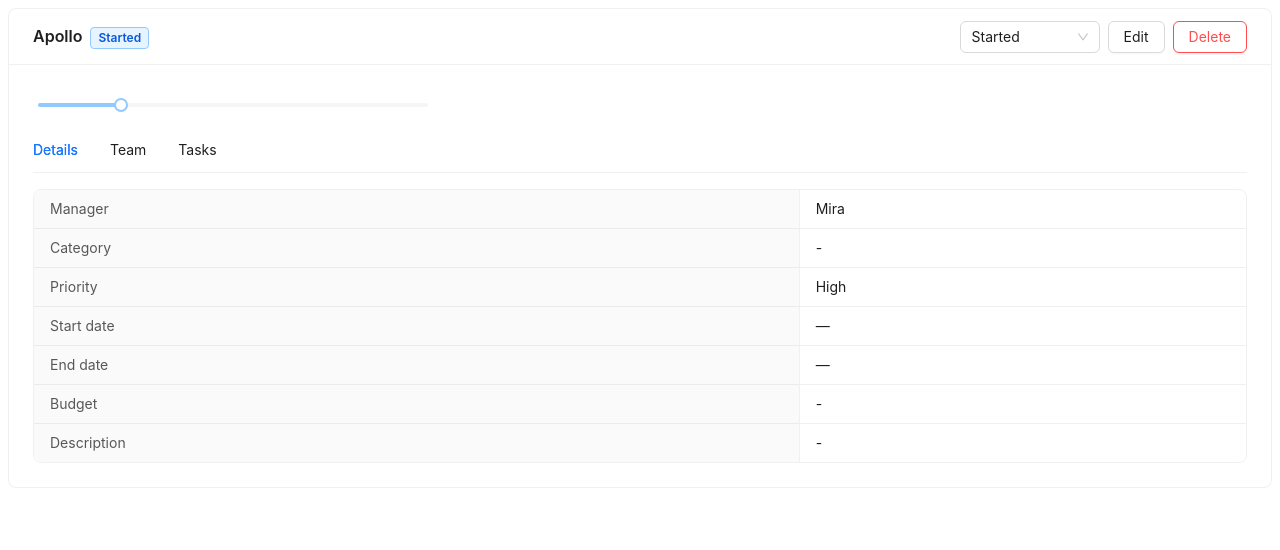
it: ProjectPage (W-48.1 §7) › delete 409 shows the server message
The width and height of the screenshot is (1280, 550).
Click the button "Delete". click: (1210, 36)
box: 1173,20 -> 1247,52
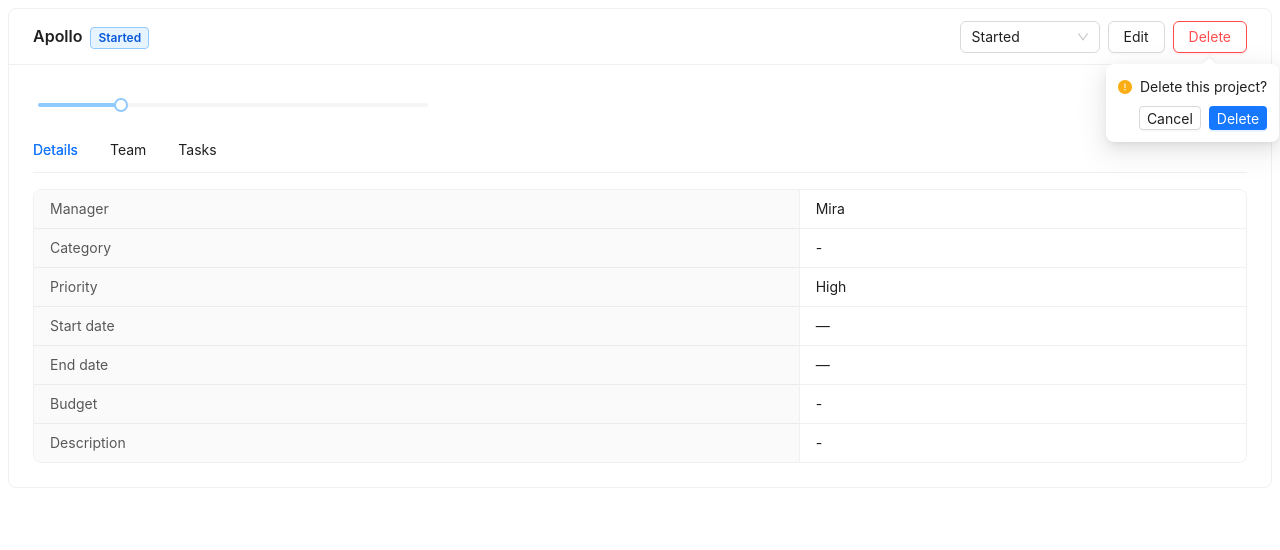
Click the button "Delete" below "Delete this project?". click: (1238, 118)
box: 1209,106 -> 1267,130
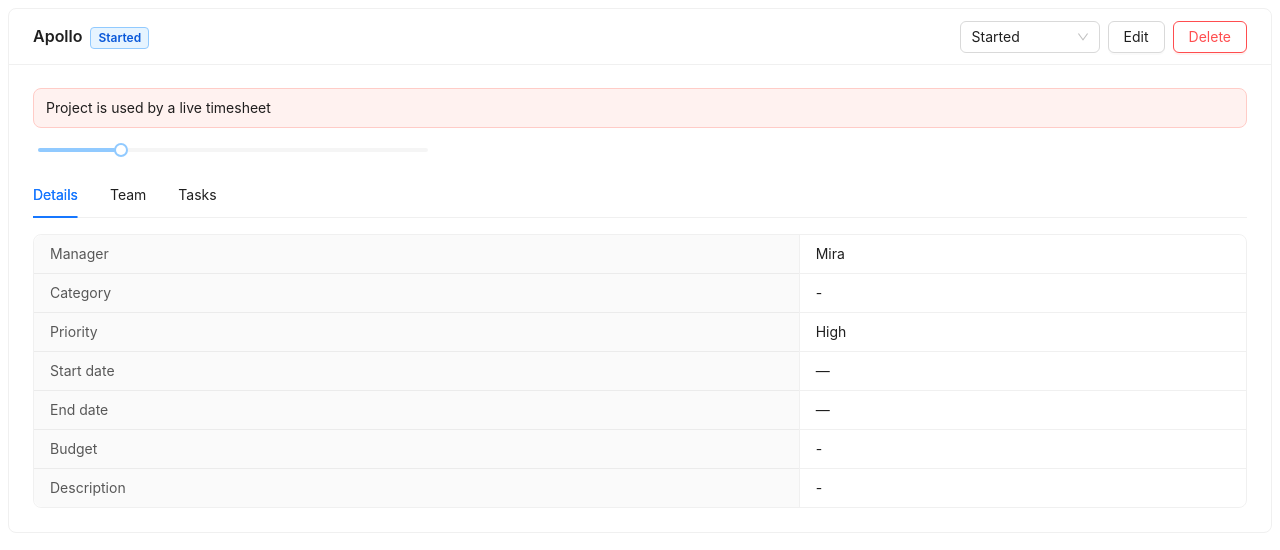
expect the text "Project is used by a live timesheet" is shown: met, box 46,99 -> 271,116
